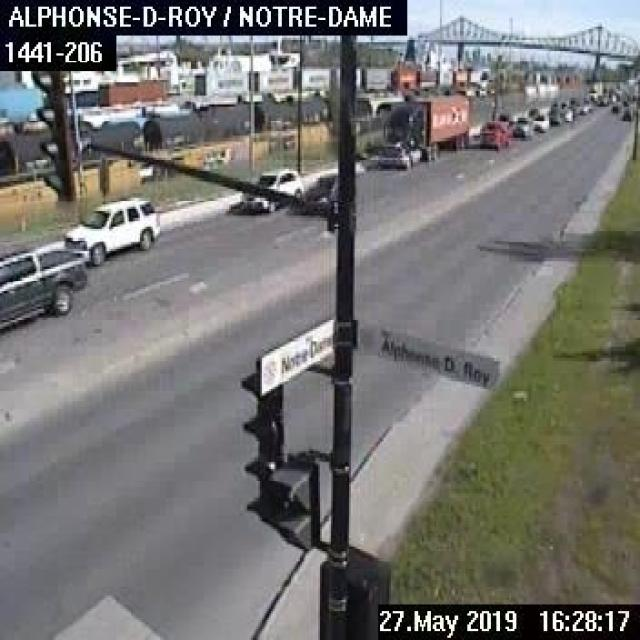vehicle: (0, 234, 87, 334), (376, 89, 471, 167), (63, 190, 161, 260), (238, 166, 301, 211), (292, 168, 336, 214), (475, 115, 509, 149), (509, 113, 534, 140), (531, 110, 548, 132)
